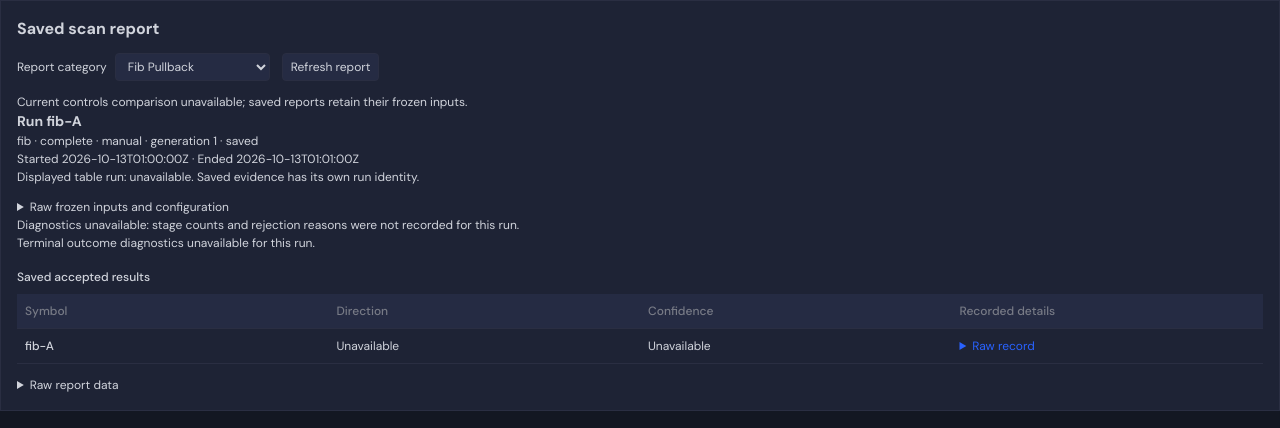
Test: legacy evidence is accessible without inventing a category or diagnostics
Expected: the heading "Run fib-A" is shown, x1=17 y1=112 x2=82 y2=130
Select "Legacy / unclassified" in the dropdown labelled "Report category" at (192, 67), box x1=115 y1=53 x2=270 y2=81
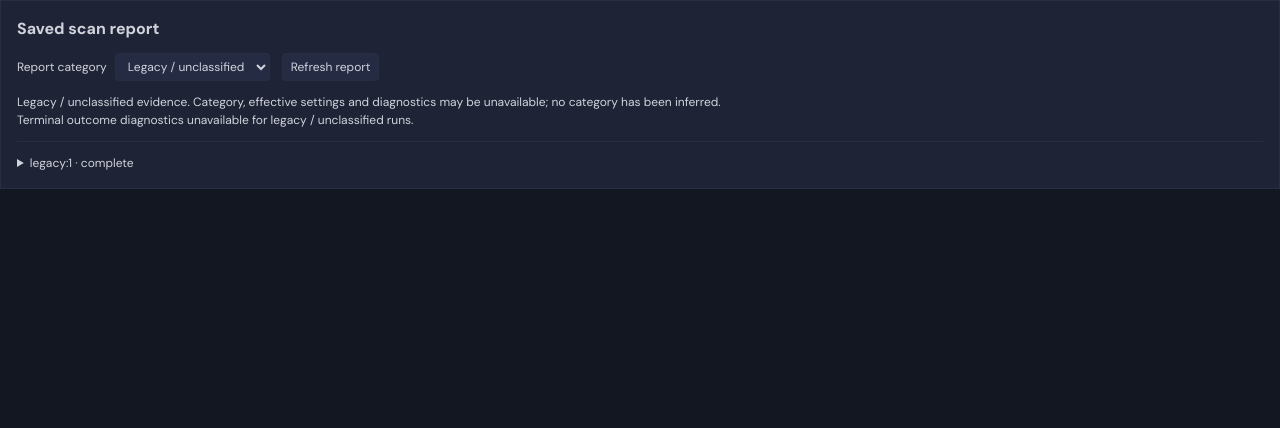
Now the text "Legacy / unclassified evidence" is shown, box x1=17 y1=94 x2=721 y2=110
